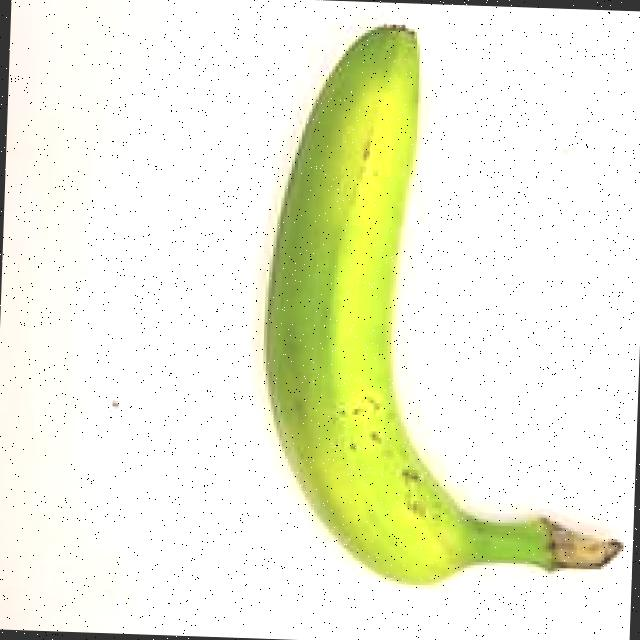Unripe: (223, 6, 640, 613)
